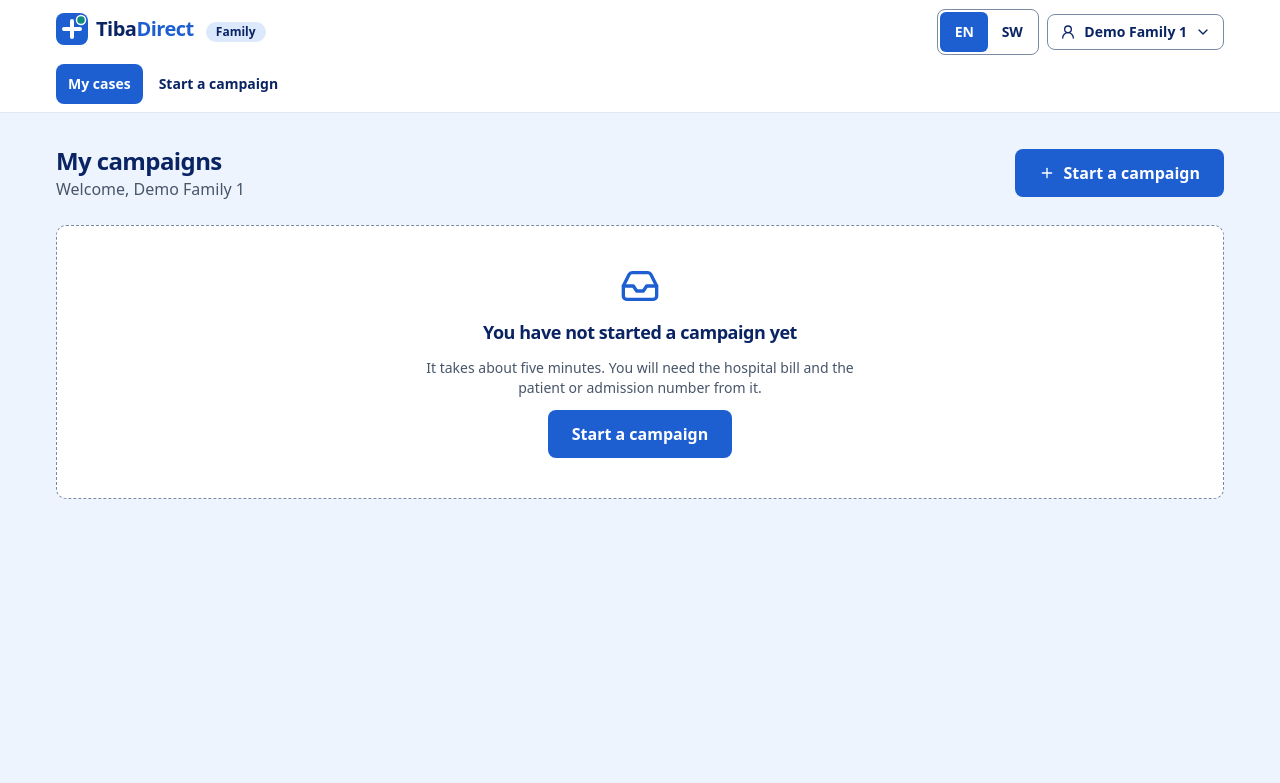
Scenario: role routing › signs out: tells the API, then shows the public site
expect the heading "My campaigns" is shown: met, box [56,145,245,177]
Click the button named "Account menu" at (1136, 32), box [1047,14,1224,50]
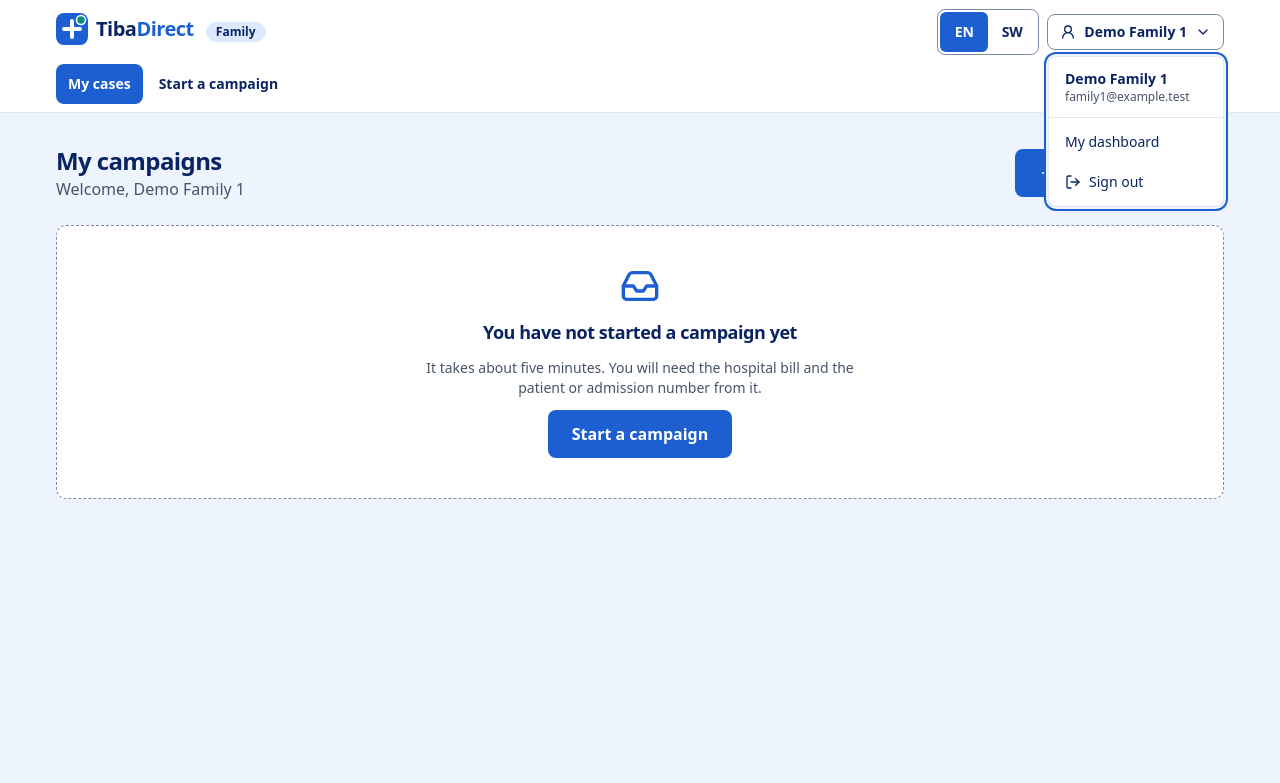
Click the menu item "Sign out" at (1104, 182), box [1065,172,1143,191]
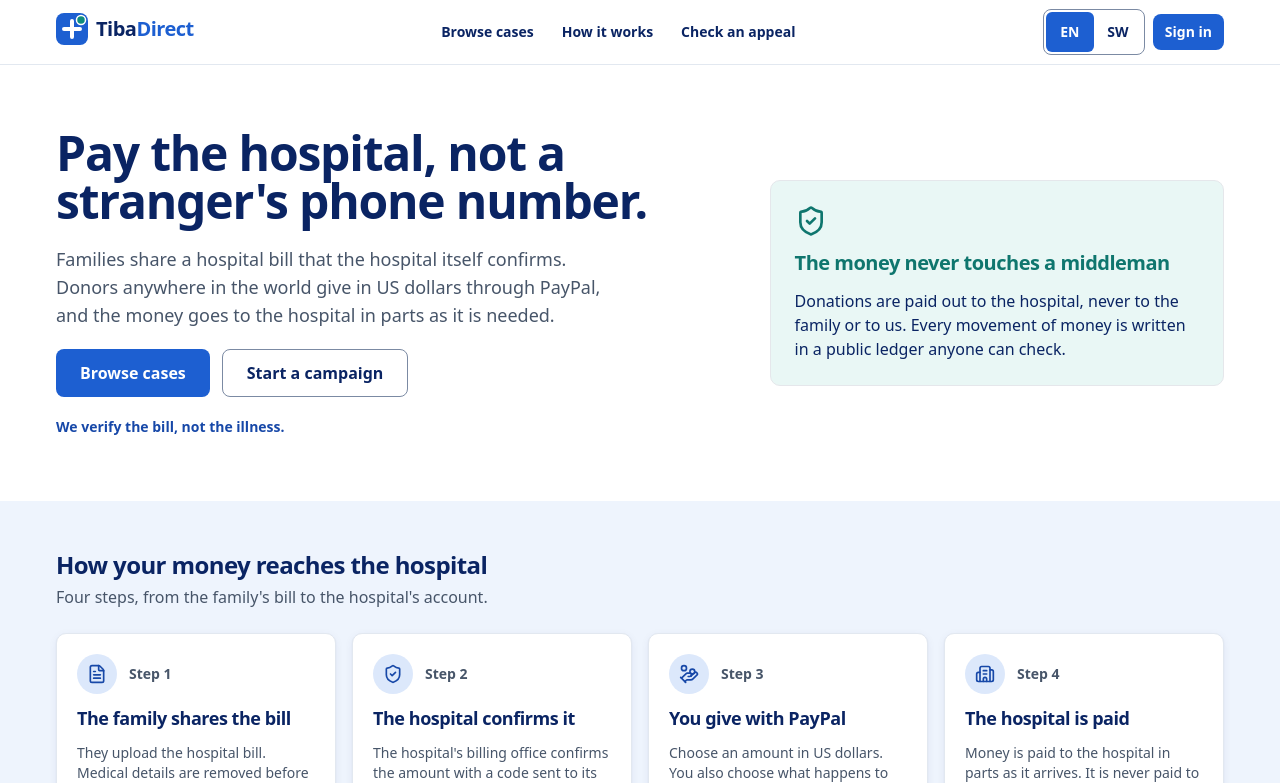
expect the link "Sign in" is shown: met, box [1153,14,1224,50]
